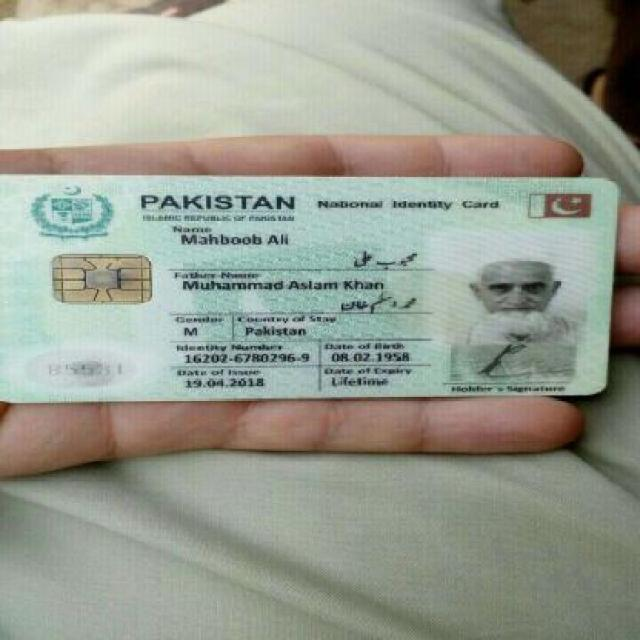Front: (2, 165, 624, 408)
